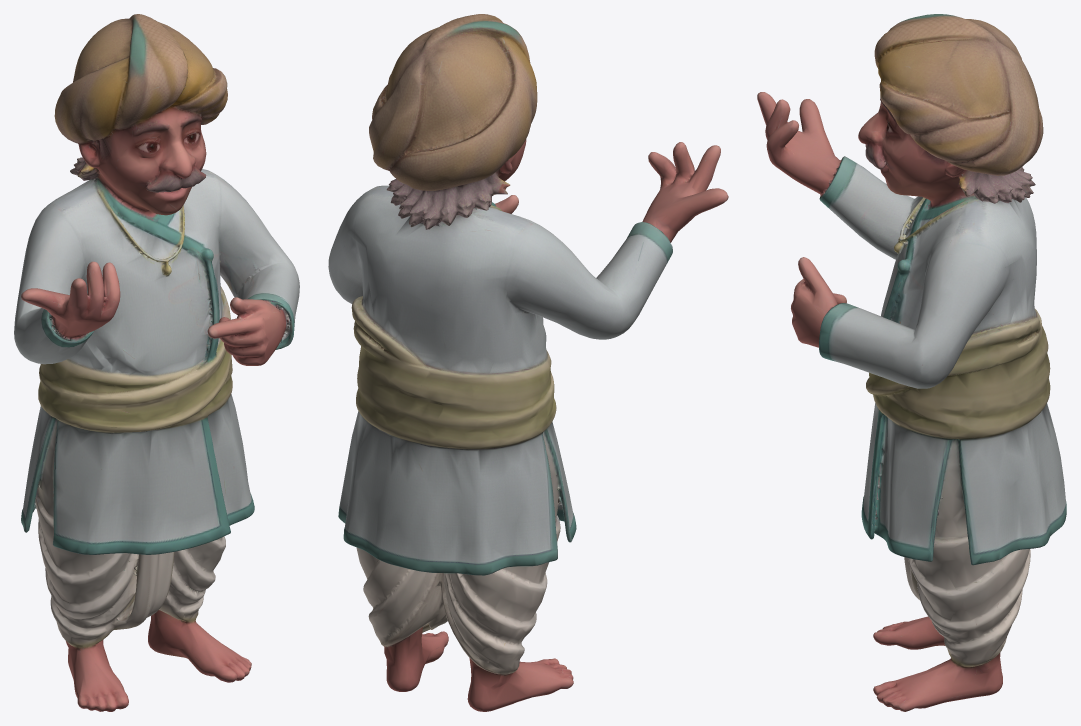
The model's file is gavkari1.glb.
3 views of the same model, side by side, from view 1: azimuth 30°, elevation 25°; view 2: azimuth 150°, elevation 25°; view 3: azimuth 270°, elevation 25° (orthographic).
Visible parts, largest first — view 1: Mesh_0; view 2: Mesh_0; view 3: Mesh_0.
Boxes of the visible parts, bbox=[...] form: Mesh_0: bbox=[14, 14, 299, 711]; Mesh_0: bbox=[328, 14, 728, 711]; Mesh_0: bbox=[757, 14, 1066, 711].
Size of the model in its own units: 1.02 by 1.91 by 0.8175.
1 material, 1 textured.
